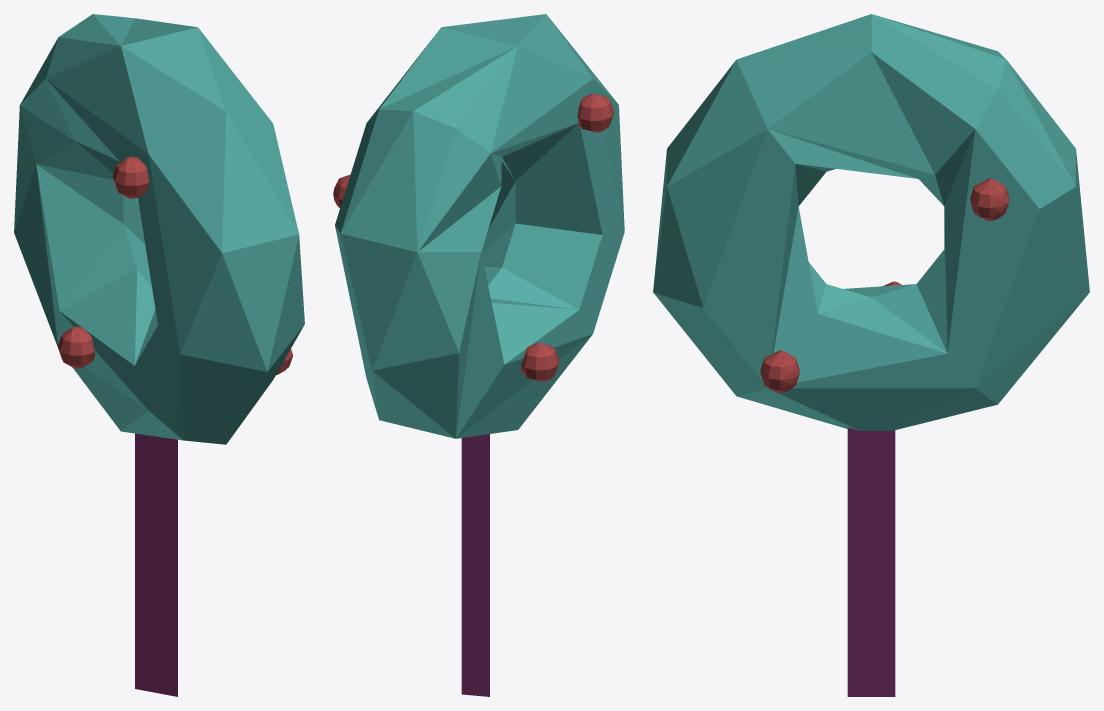
File: doughnut_tree.fbx
The picture shows the model from 3 angles, left to right: view 1: azimuth 30°, elevation 25°; view 2: azimuth 150°, elevation 25°; view 3: azimuth 270°, elevation 25°; orthographic projection.
Parts seen in each view (by area): view 1: pSphere46; view 2: pSphere46; view 3: pSphere46.
Part boxes in pixels (bbox=[...]): pSphere46: bbox=[14, 14, 304, 696]; pSphere46: bbox=[333, 14, 624, 696]; pSphere46: bbox=[653, 14, 1089, 696].
Size of the model in its own units: 8.14 by 29.15 by 17.47.
